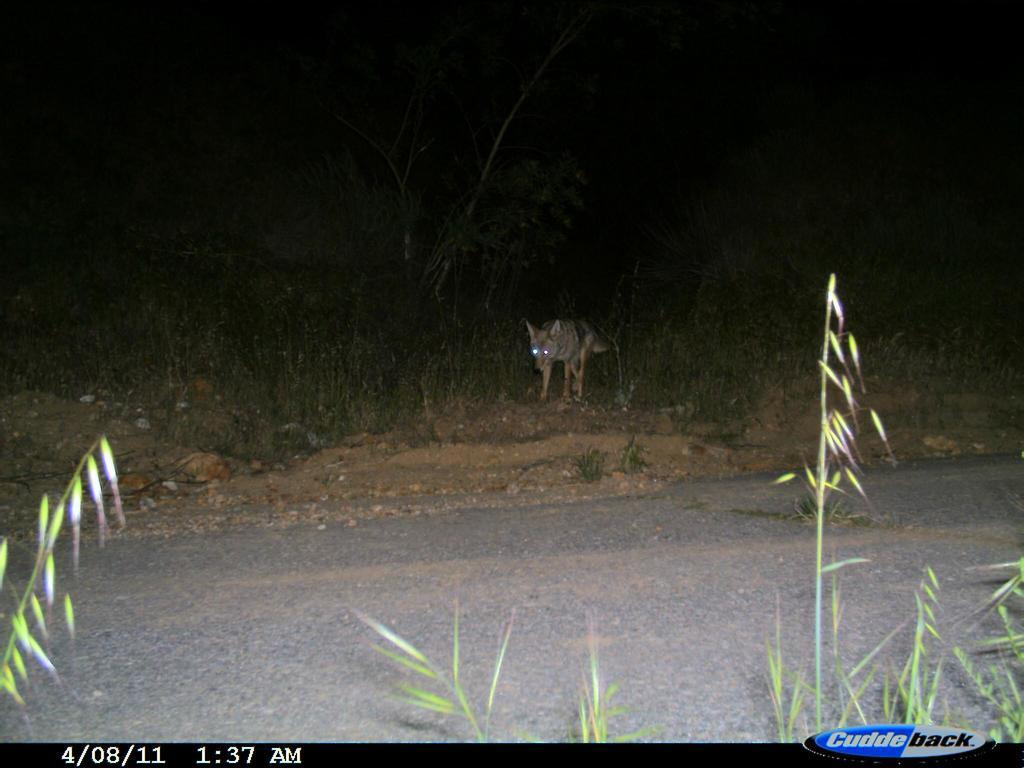coyote: (515, 305, 641, 425)
